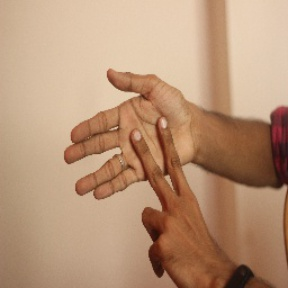N: (61, 67, 217, 243)
